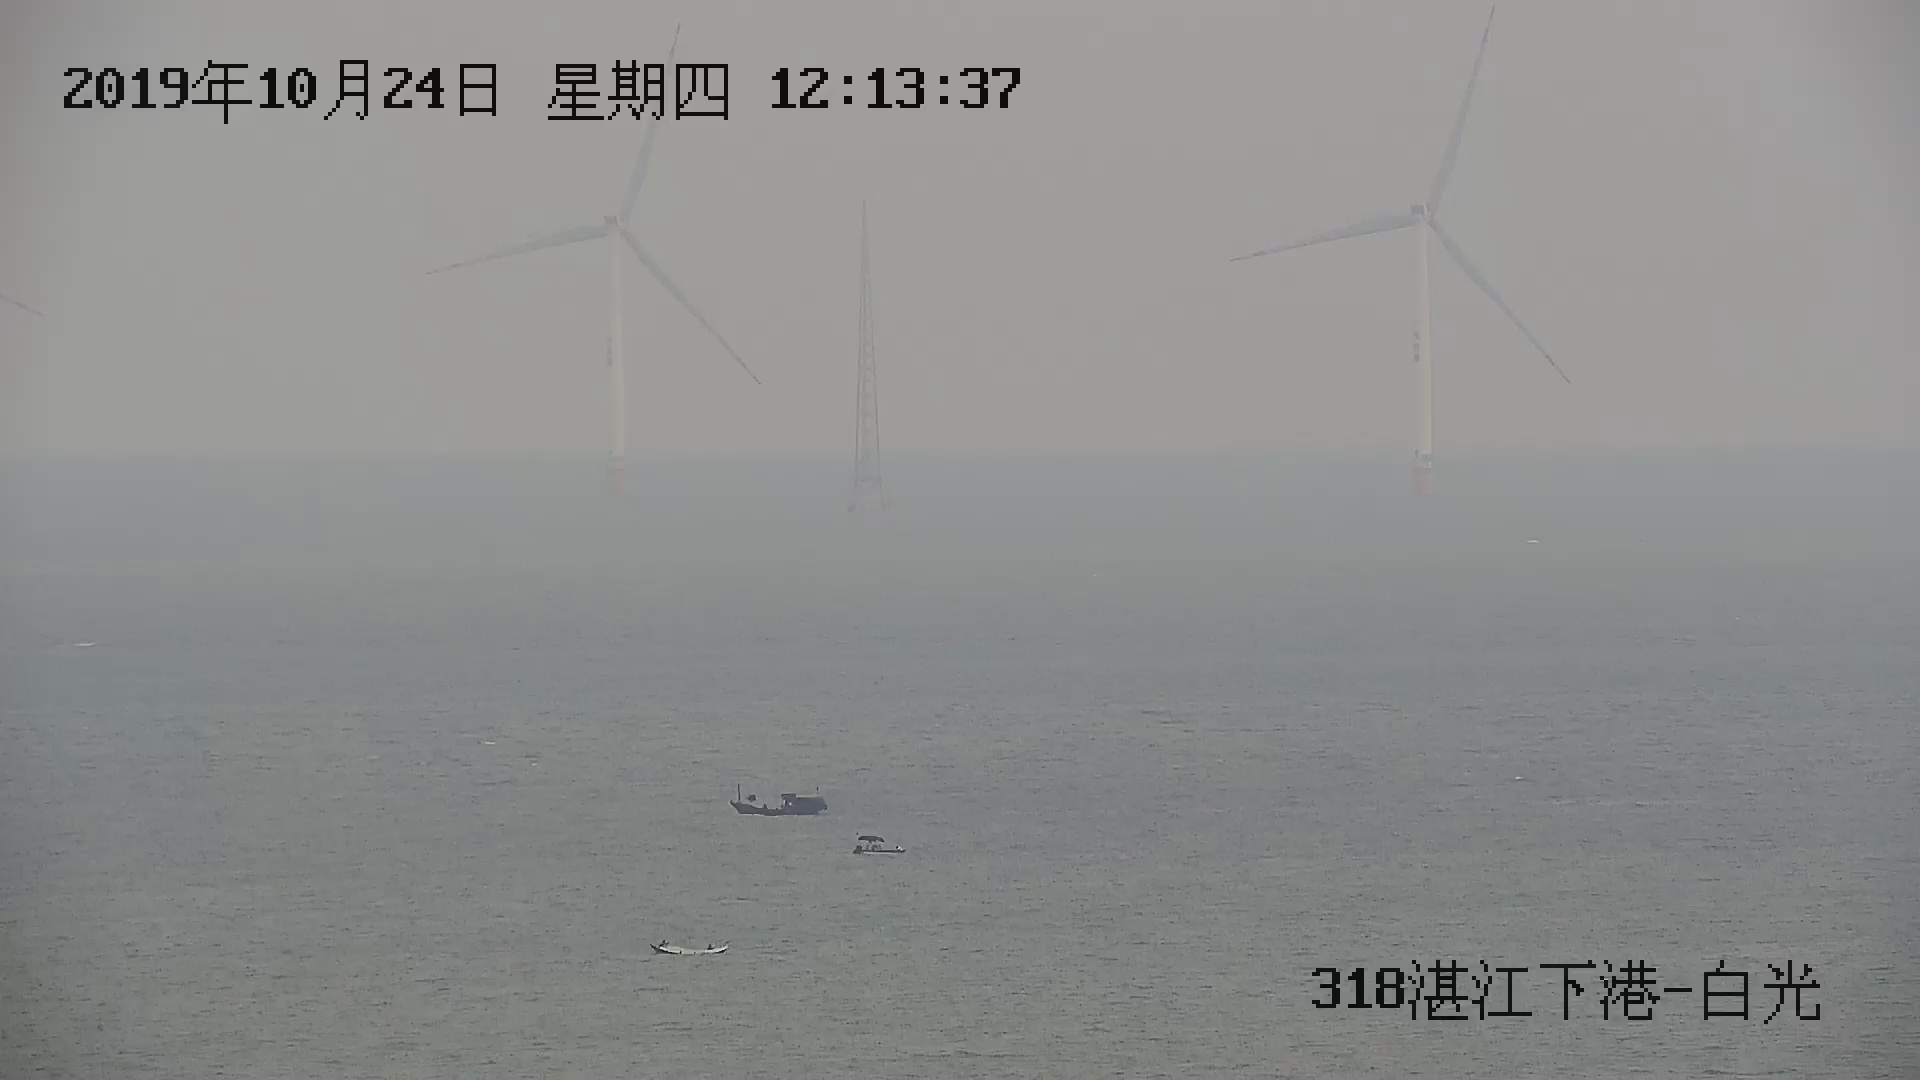ship: (731, 791, 829, 819), (654, 936, 732, 959), (852, 829, 901, 857)
